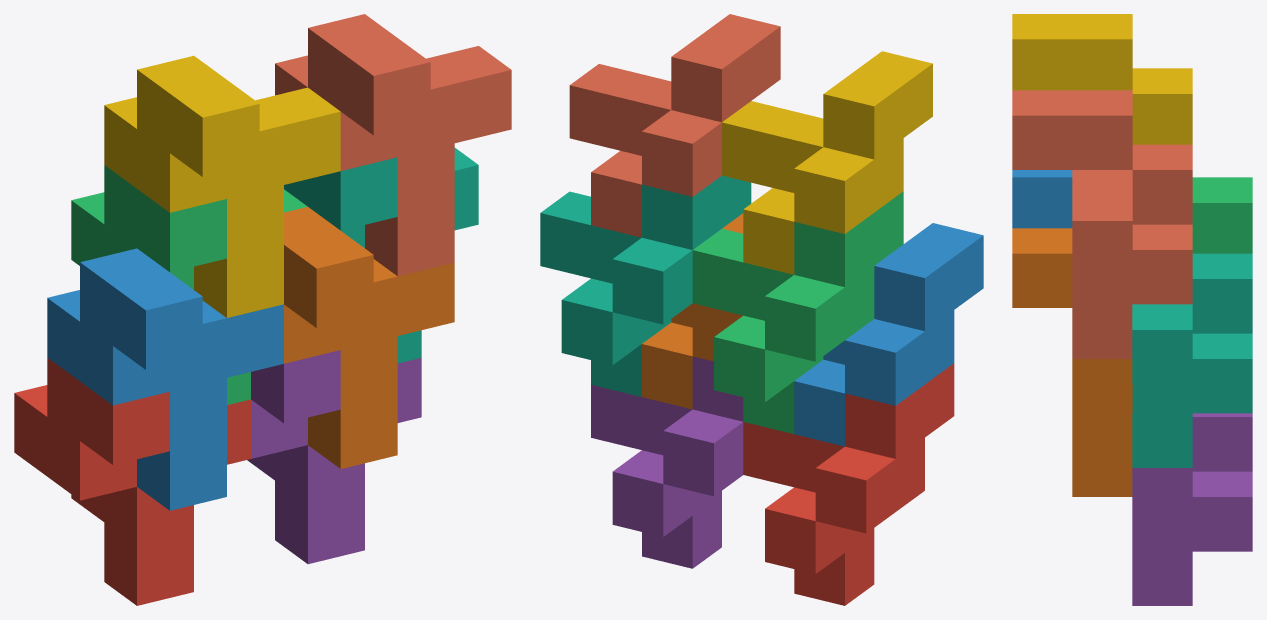
Rendered from tiling.obj.
The picture shows the model from 3 angles, left to right: view 1: azimuth 30°, elevation 25°; view 2: azimuth 150°, elevation 25°; view 3: azimuth 270°, elevation 25°; orthographic projection. The views are drawn at different scales.
Visible parts, largest first — view 1: copy_1_domain_4, copy_1_domain_2, copy_1_domain_8, copy_1_domain_6, copy_1_domain_1, copy_1_domain_5, copy_1_domain_3, copy_1_domain_7; view 2: copy_1_domain_4, copy_1_domain_1, copy_1_domain_3, copy_1_domain_8, copy_1_domain_7, copy_1_domain_5, copy_1_domain_2, copy_1_domain_6; view 3: copy_1_domain_8, copy_1_domain_7, copy_1_domain_5, copy_1_domain_4, copy_1_domain_6, copy_1_domain_3, copy_1_domain_2.
Boxes of the visible parts, bbox=[...] form: copy_1_domain_4: bbox=[104, 55, 340, 317]; copy_1_domain_2: bbox=[47, 248, 283, 510]; copy_1_domain_8: bbox=[275, 14, 511, 276]; copy_1_domain_6: bbox=[284, 206, 454, 468]; copy_1_domain_1: bbox=[14, 358, 250, 605]; copy_1_domain_5: bbox=[247, 350, 421, 564]; copy_1_domain_3: bbox=[71, 165, 307, 404]; copy_1_domain_7: bbox=[284, 147, 478, 363]; copy_1_domain_4: bbox=[722, 51, 932, 274]; copy_1_domain_1: bbox=[743, 363, 954, 605]; copy_1_domain_3: bbox=[692, 191, 903, 433]; copy_1_domain_8: bbox=[569, 14, 780, 237]; copy_1_domain_7: bbox=[540, 175, 751, 396]; copy_1_domain_5: bbox=[591, 356, 743, 568]; copy_1_domain_2: bbox=[794, 223, 983, 446]; copy_1_domain_6: bbox=[642, 213, 743, 409]; copy_1_domain_8: bbox=[1012, 90, 1192, 358]; copy_1_domain_7: bbox=[1132, 253, 1252, 467]; copy_1_domain_5: bbox=[1132, 413, 1252, 605]; copy_1_domain_4: bbox=[1012, 14, 1192, 144]; copy_1_domain_6: bbox=[1012, 228, 1132, 496]; copy_1_domain_3: bbox=[1192, 177, 1252, 253]; copy_1_domain_2: bbox=[1012, 170, 1072, 228].
Size of the model in its own units: 7 by 9 by 4.
